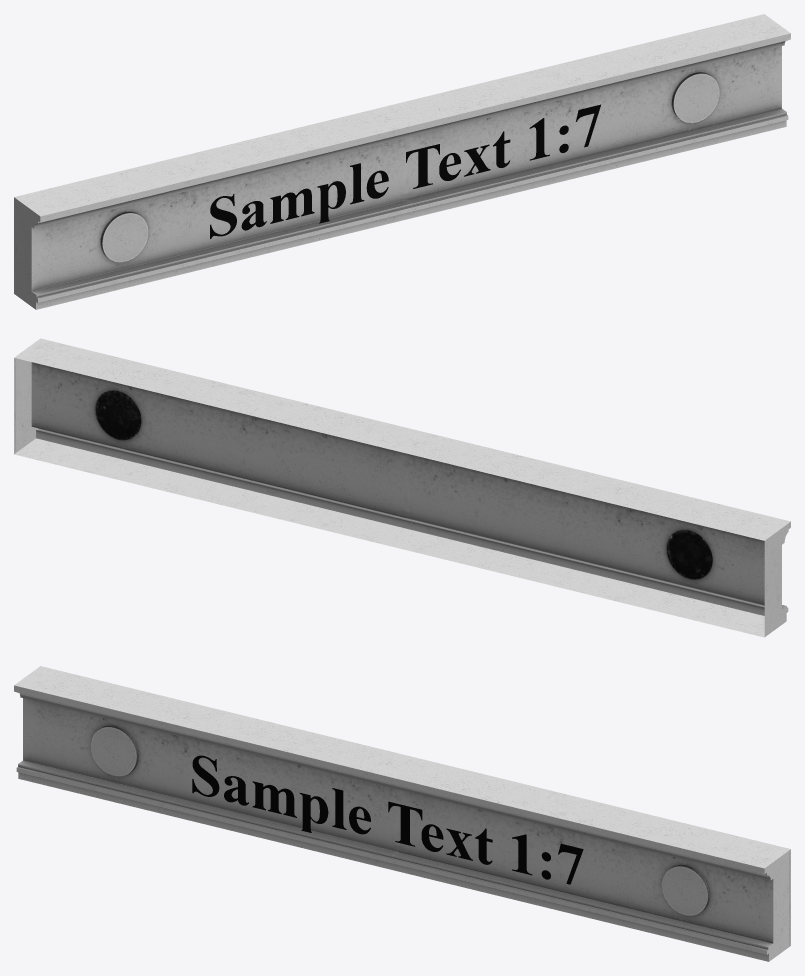
Rendered from name_1.glb.
3 views of the same model, one above another, from view 1: azimuth 30°, elevation 25°; view 2: azimuth 150°, elevation 25°; view 3: azimuth 330°, elevation 25° (orthographic).
Visible parts, largest first — view 1: name_1, name_1_img; view 2: name_1; view 3: name_1, name_1_img.
Boxes of the visible parts, x1=… form: name_1: x1=14, y1=14, x2=790, y2=309; name_1_img: x1=210, y1=104, x2=600, y2=238; name_1: x1=14, y1=338, x2=790, y2=637; name_1: x1=14, y1=666, x2=790, y2=961; name_1_img: x1=192, y1=755, x2=583, y2=884.
Bounding box in the file's own units: 6.5 × 0.8 × 0.3975.
Materials: 2 (2 with a texture image).
